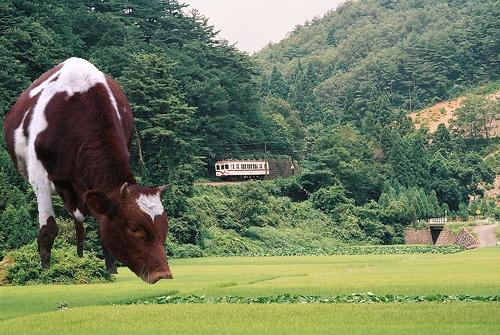tampered: (5, 58, 173, 284)
